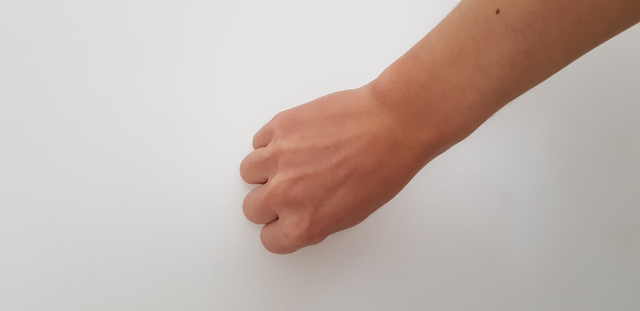Rock: (216, 86, 439, 258)
